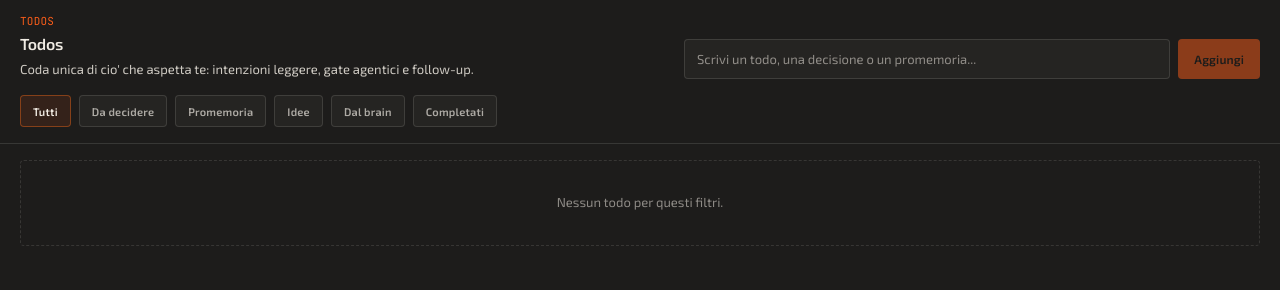
it: TodosSurface › posts capture text and shows the capture caption
The image size is (1280, 290).
Type "Mandare update" into the field labelled "Scrivi un todo, una decisione o un promemoria..." at point(927, 59), box [684, 39, 1170, 79]
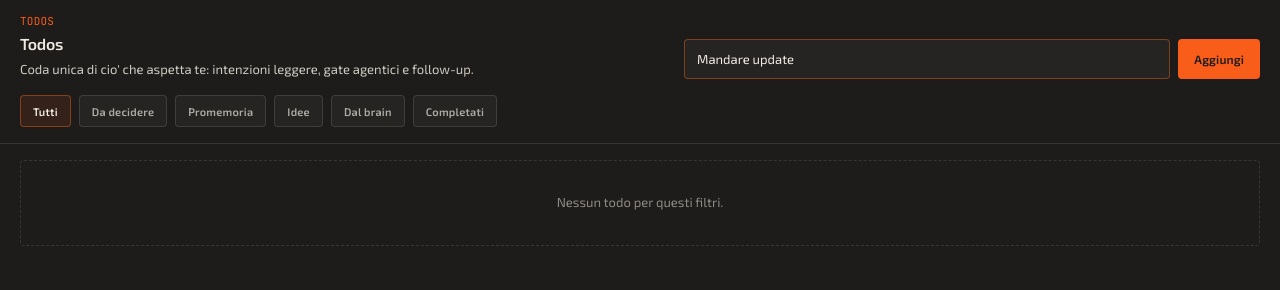
Click the button "Aggiungi" at point(1219, 59), box [1178, 39, 1260, 79]
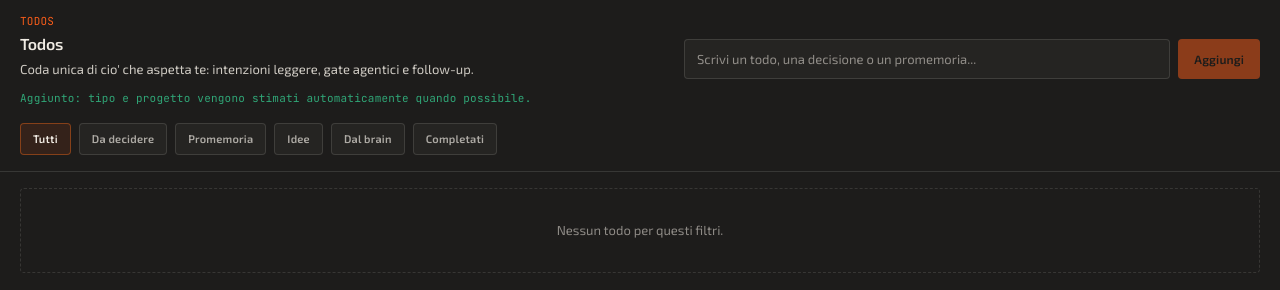
Now the text "Aggiunto: tipo e progetto vengono stimati automaticamente quando possibile." is shown, box [20, 91, 532, 105]
